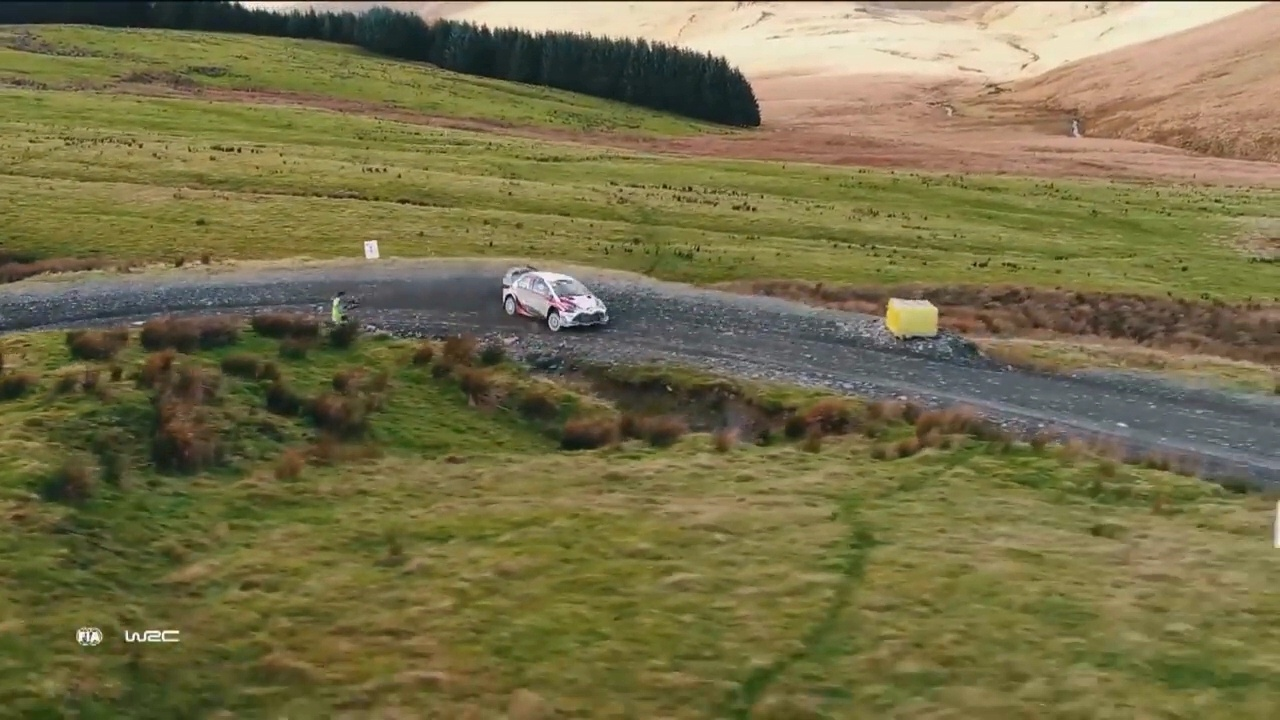araba: (492, 265, 611, 330)
insan: (331, 290, 356, 329)
